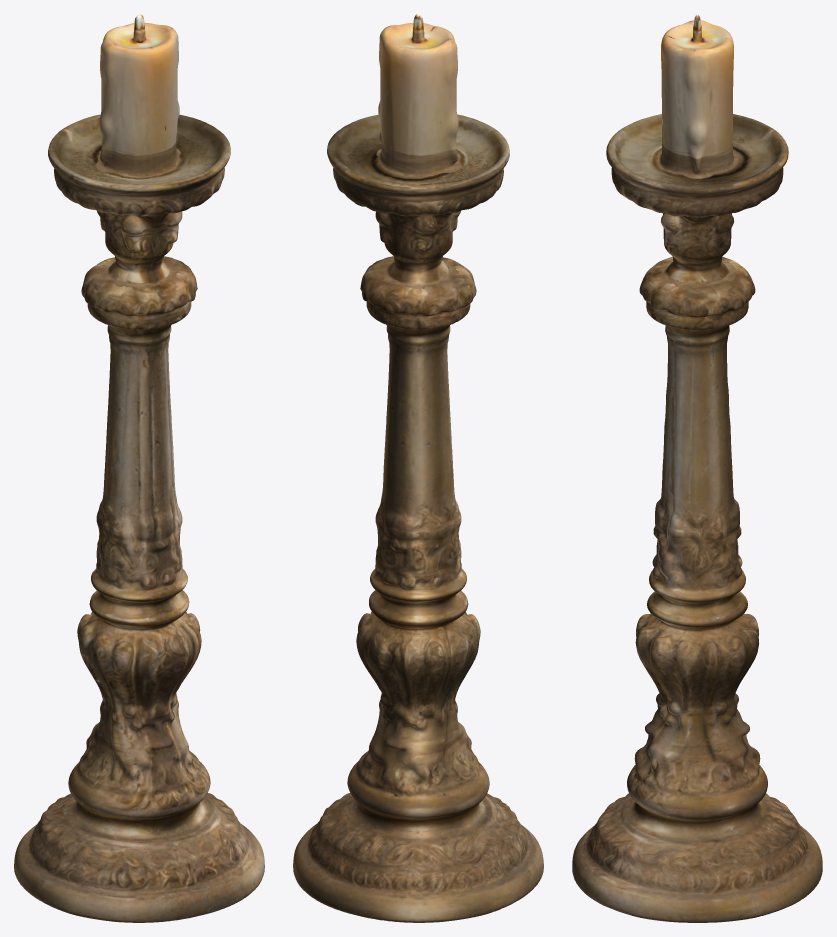
Rendered from Meshy_AI_A_romanesque_gothic_t_0330052134_texture.glb.
3 views of the same model, side by side, from view 1: azimuth 30°, elevation 25°; view 2: azimuth 150°, elevation 25°; view 3: azimuth 270°, elevation 25° (orthographic).
Size of the model in its own units: 0.5314 by 2.02 by 0.5344.
Materials: 1 (1 with a texture image).
